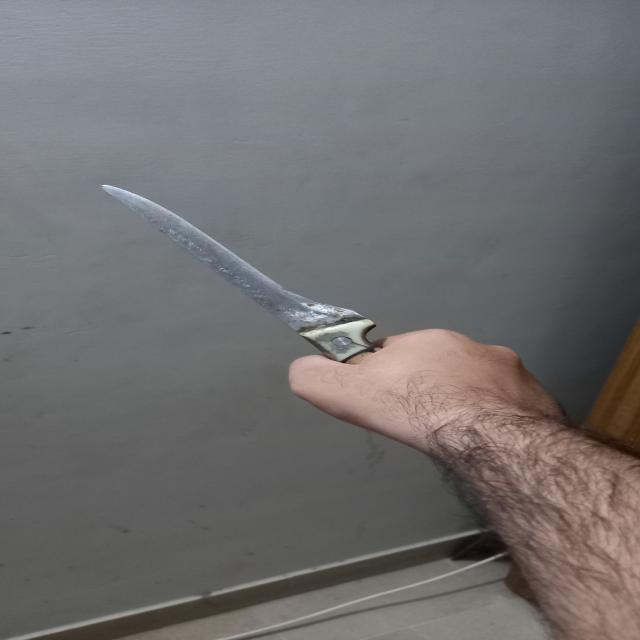Knife: (90, 175, 381, 364)
